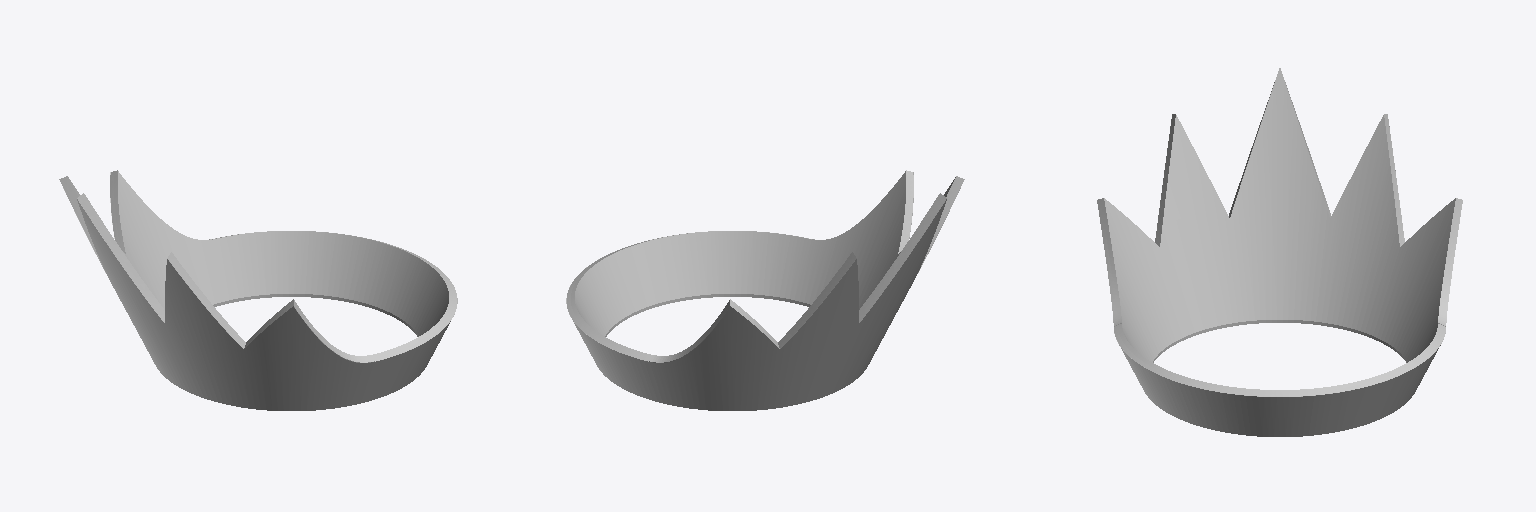
Rendered from crown.obj.
3 renders of one model, left to right at view 1: azimuth 30°, elevation 25°; view 2: azimuth 150°, elevation 25°; view 3: azimuth 270°, elevation 25°, orthographic.
Parts seen in each view (by area): view 1: 000_crown; view 2: 000_crown; view 3: 000_crown.
Boxes of the visible parts, <box> form: 000_crown: <box>59,170,457,410</box>; 000_crown: <box>566,170,964,410</box>; 000_crown: <box>1097,68,1462,436</box>.
Size of the model in its own units: 181 by 102 by 160.